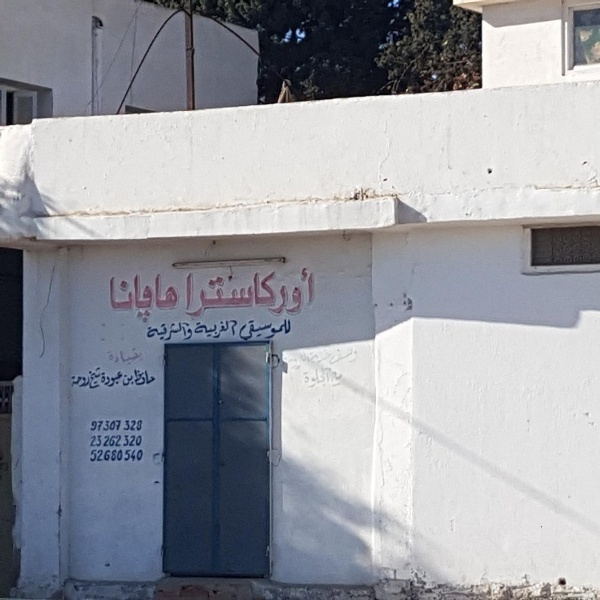text: (113, 272, 128, 325), (129, 272, 144, 325), (145, 272, 160, 325), (161, 272, 176, 325), (193, 267, 208, 319), (209, 267, 224, 319), (225, 267, 240, 319), (241, 267, 256, 319), (257, 267, 272, 319), (273, 267, 288, 319), (289, 267, 304, 319), (305, 267, 320, 319), (289, 347, 304, 389), (305, 347, 320, 389), (321, 347, 336, 389), (337, 347, 352, 389), (177, 272, 187, 325), (241, 318, 256, 342), (257, 318, 272, 342), (273, 318, 288, 342), (209, 319, 224, 340), (145, 321, 160, 342), (161, 321, 176, 342), (177, 321, 192, 342), (186, 267, 192, 319), (194, 319, 208, 340), (225, 319, 239, 340), (353, 347, 360, 389), (129, 349, 145, 367), (113, 349, 128, 367), (283, 347, 288, 389), (145, 369, 156, 387), (129, 449, 143, 463), (129, 435, 143, 448), (134, 369, 144, 387), (113, 372, 124, 388), (89, 367, 96, 391), (129, 420, 144, 431), (102, 372, 112, 388), (109, 272, 112, 325), (81, 374, 90, 389), (72, 374, 80, 389), (97, 367, 102, 391), (113, 450, 123, 462), (113, 435, 122, 448), (104, 435, 112, 448), (113, 421, 122, 432), (289, 318, 293, 342), (97, 450, 104, 463), (104, 421, 112, 432), (105, 450, 112, 462), (97, 435, 103, 448), (90, 450, 96, 463), (97, 421, 104, 432), (108, 349, 112, 367), (123, 373, 128, 387), (129, 373, 134, 387), (91, 435, 96, 448), (124, 449, 128, 463), (91, 421, 96, 432), (124, 435, 128, 448), (124, 420, 128, 431), (193, 321, 194, 342)
